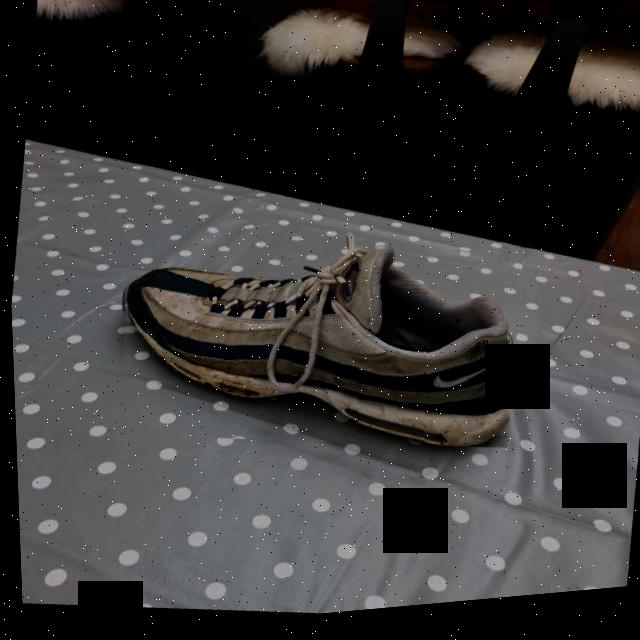shoe: (99, 208, 527, 485)
